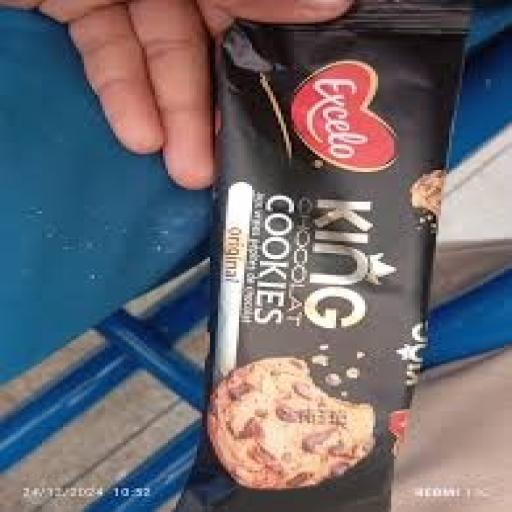king-cooking: (120, 17, 486, 512)
